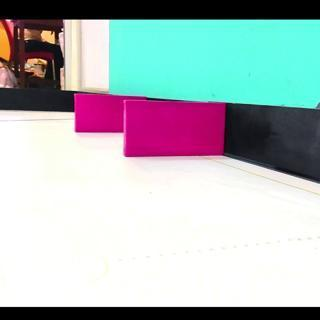xparking: (125, 103, 224, 157), (75, 96, 124, 132)
